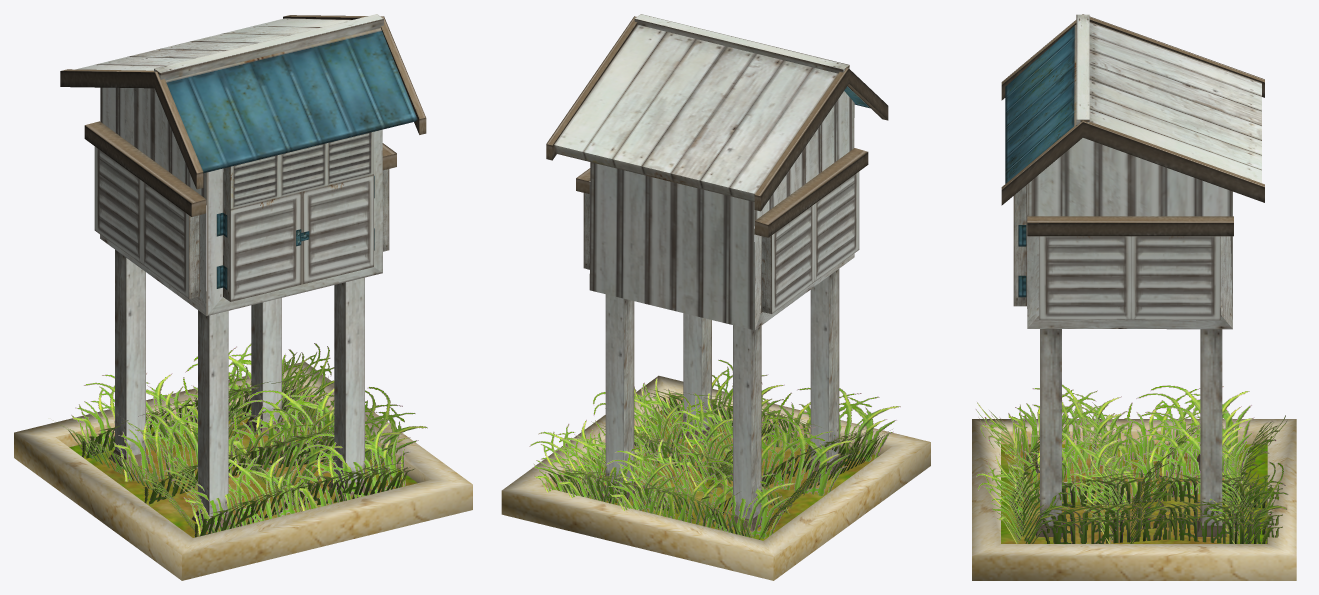
File: a_SEcenter02.glb
The picture shows the model from 3 angles, left to right: view 1: azimuth 30°, elevation 25°; view 2: azimuth 150°, elevation 25°; view 3: azimuth 270°, elevation 25°; orthographic projection. The views are drawn at different scales.
Visible parts, largest first — view 1: a_SEcenter02; view 2: a_SEcenter02; view 3: a_SEcenter02.
Part boxes in pixels (x1,y1,x2,y2): a_SEcenter02: (14,14,472,580); a_SEcenter02: (501,14,930,580); a_SEcenter02: (972,14,1296,580).
Size of the model in its own units: 1.41 by 2.06 by 1.42.
3 materials, 3 textured.
